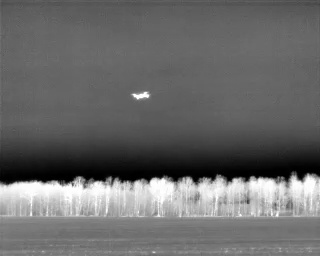DRONE: (128, 87, 154, 104)
